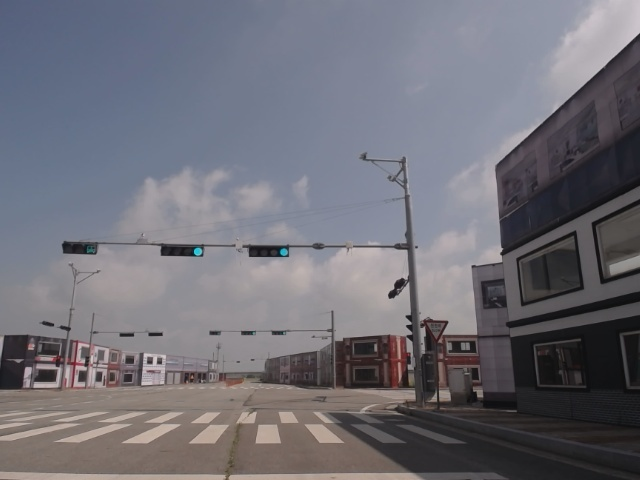straight_green_4: (160, 243, 206, 256), (249, 245, 290, 256)
